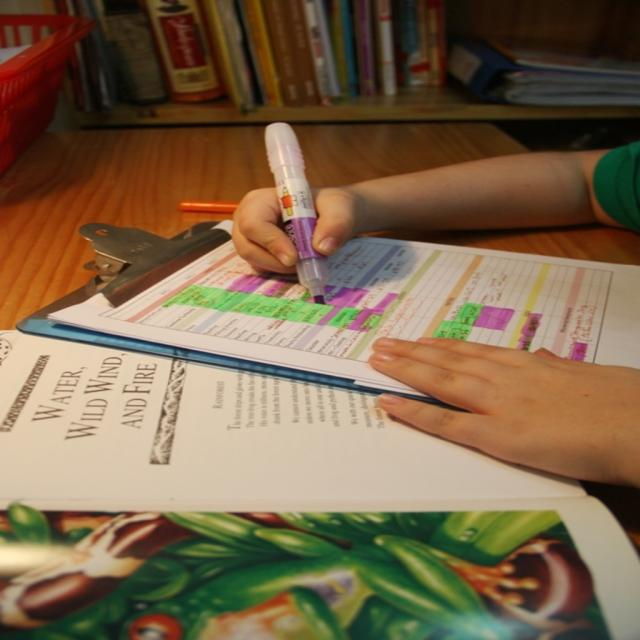pen: (256, 122, 329, 308), (172, 196, 244, 221)
